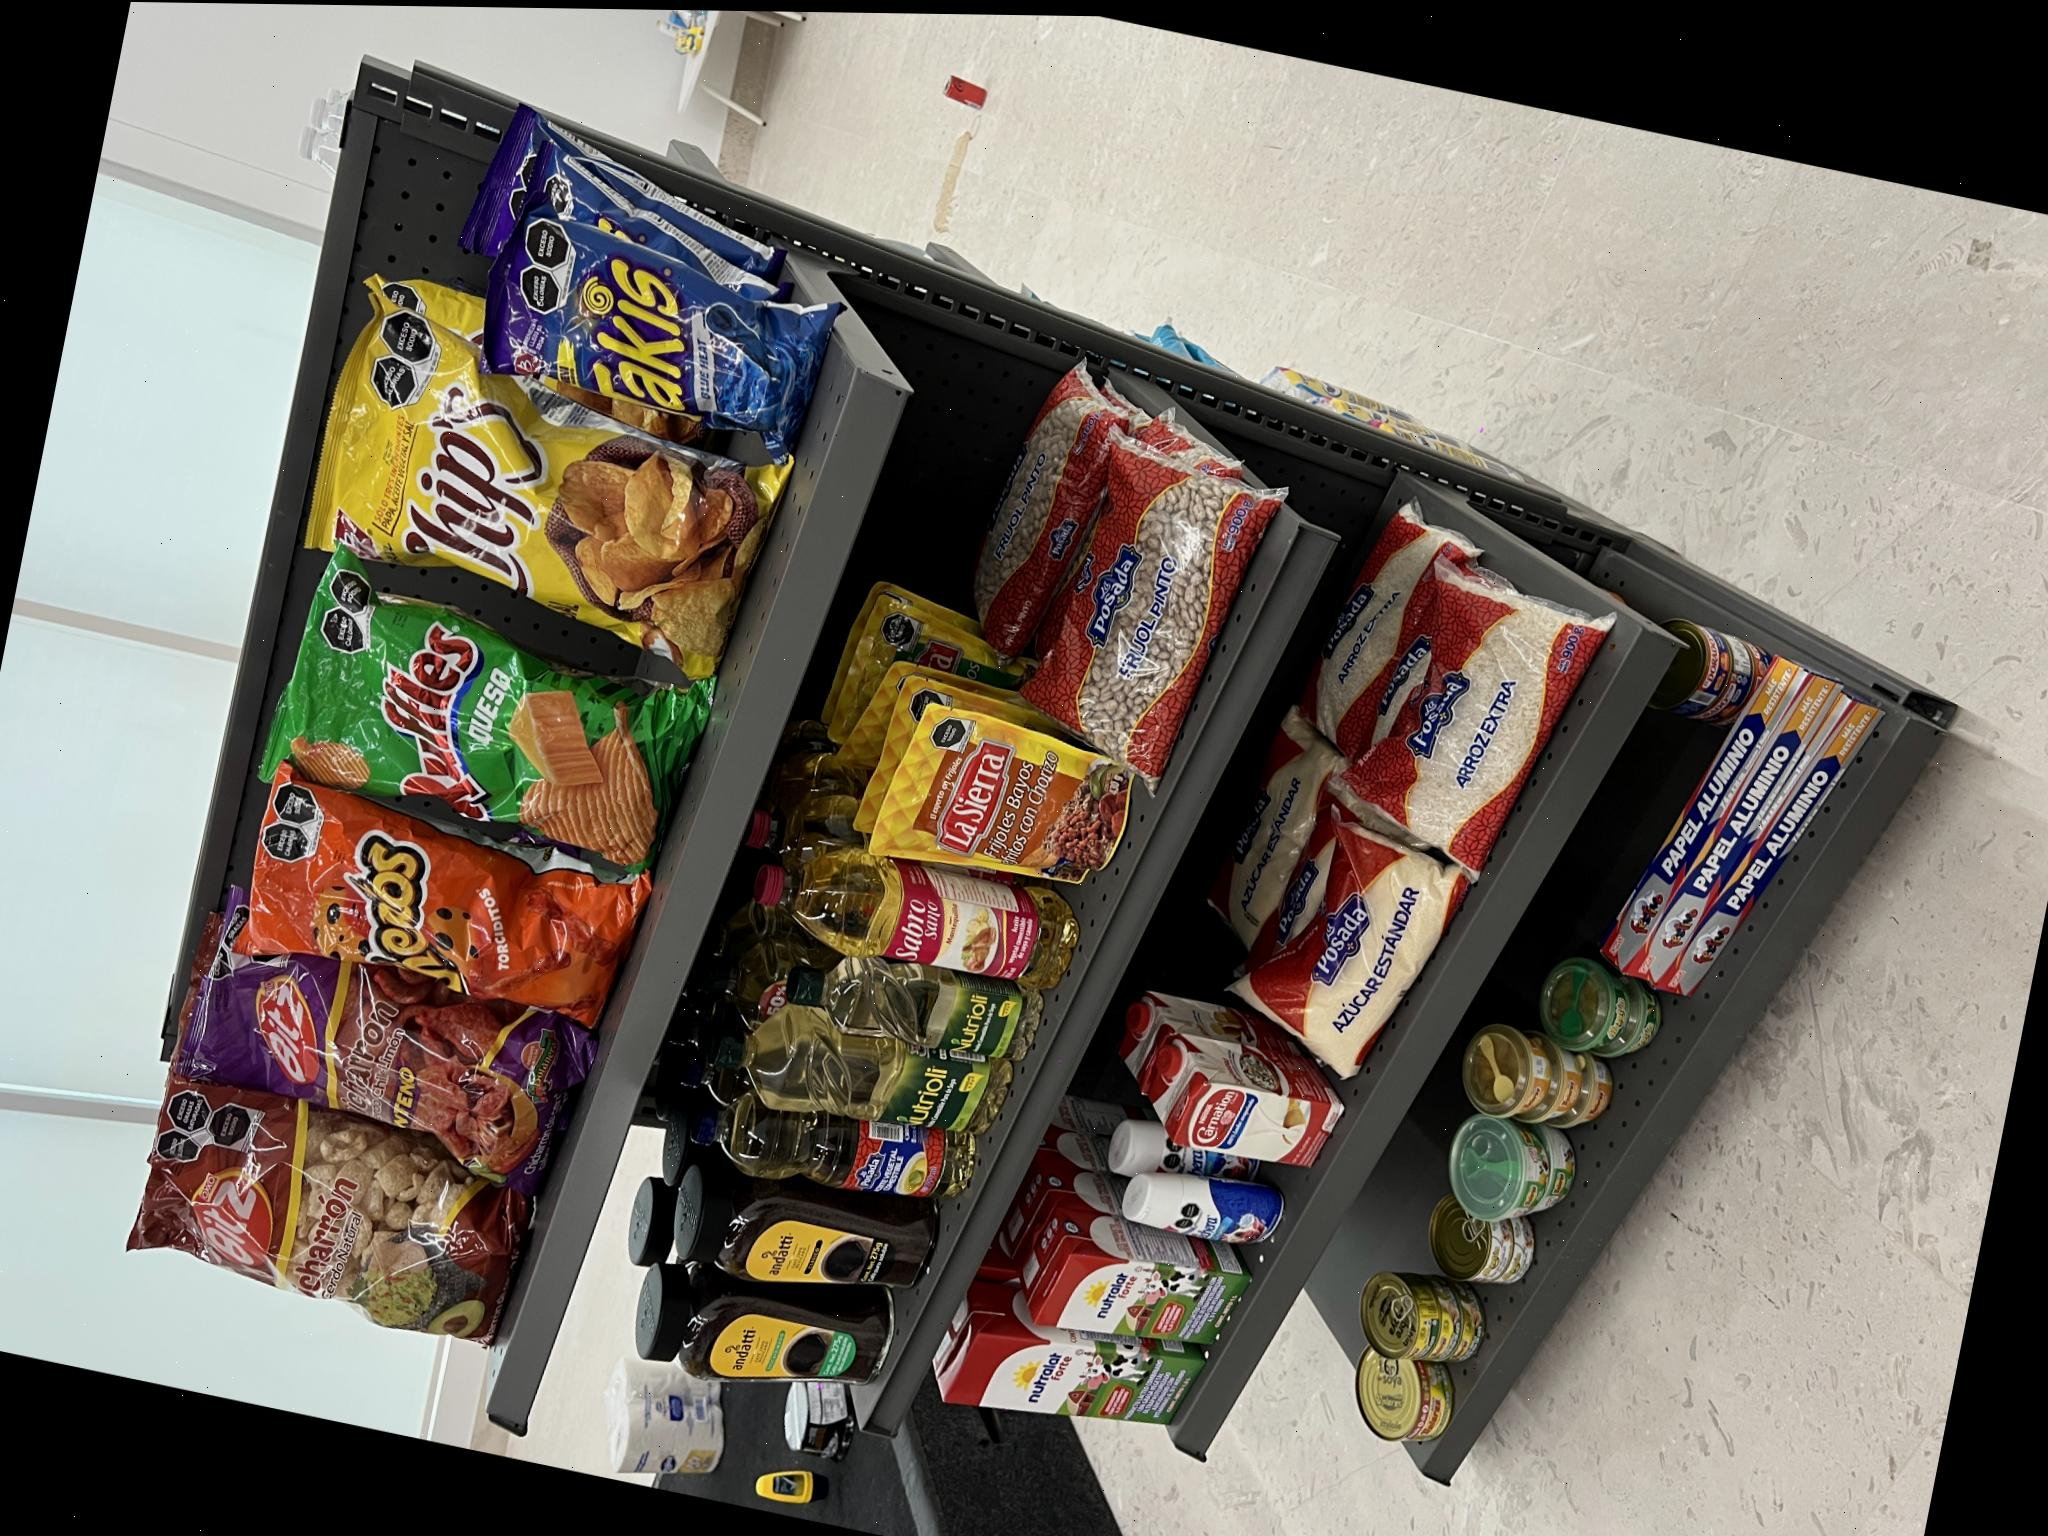aceite_nutrioli_400ml: (447, 789, 543, 1000)
aceite_nutrioli_850ml: (371, 713, 484, 963)
aceite_posada: (303, 689, 400, 926)
aceite_saborsano: (516, 805, 629, 1034)
andatti: (223, 676, 316, 878), (123, 634, 216, 831)
arroz_laposada: (640, 1297, 947, 1536)
atun_dolores_masdos: (68, 1331, 153, 1383)
atun_dolores_normal: (155, 1350, 226, 1399)
azucar_laposada: (437, 1186, 700, 1425)
carnation: (342, 1131, 429, 1297)
cheetos: (474, 195, 731, 605)
chicharron_bitz_intenso: (308, 139, 600, 547)
chicharron_bitz_natural: (153, 84, 414, 473)
chips_sal: (824, 284, 1193, 742)
frijol_laposada: (735, 979, 1061, 1238)
frijol_lasierra: (622, 849, 795, 1097)
lalechera: (268, 1087, 327, 1236)
leche_nutralatforte: (85, 895, 169, 1154), (166, 986, 256, 1196)
ruffles: (624, 218, 939, 668)
takis: (1058, 453, 1288, 791)
